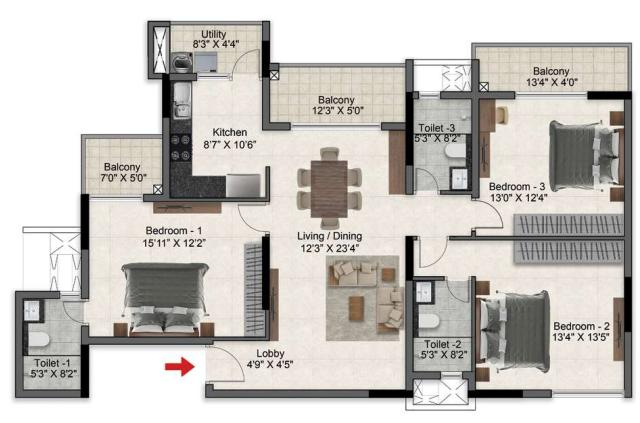Balcony: (267, 61, 408, 127), (475, 48, 631, 93), (83, 137, 168, 197)
Bed: (545, 119, 624, 196), (120, 264, 206, 333), (476, 291, 550, 369)
Bedroom: (87, 202, 267, 337), (473, 240, 629, 393), (475, 94, 629, 238)
Dining Room: (269, 127, 406, 237)
Dining table: (293, 144, 368, 233)
Kitchen: (167, 82, 269, 201)
Living Room: (266, 233, 406, 391)
Sofa: (324, 260, 377, 290), (376, 284, 404, 331)
Wardrobe: (513, 209, 625, 239), (512, 238, 628, 263), (242, 237, 265, 334)
commode: (27, 331, 52, 350), (417, 313, 439, 330), (444, 144, 466, 159)
door: (207, 346, 246, 381), (235, 201, 268, 233), (416, 238, 448, 270), (228, 52, 262, 81), (475, 197, 503, 229), (59, 299, 89, 325), (414, 169, 441, 196)
fridge: (227, 174, 261, 196)
kitchen-slab: (170, 82, 192, 199), (169, 175, 226, 199)
lobby: (208, 346, 284, 388)
sink: (168, 86, 195, 120), (450, 169, 470, 189), (415, 280, 433, 302), (23, 300, 40, 321)
stove: (169, 133, 191, 161)
toilet: (408, 277, 477, 377), (409, 95, 475, 191), (20, 296, 85, 392)
tv: (476, 94, 492, 178), (611, 296, 628, 361), (265, 271, 279, 342), (153, 200, 222, 214)
utility: (171, 20, 267, 81)
washing-machine: (171, 51, 193, 74)
